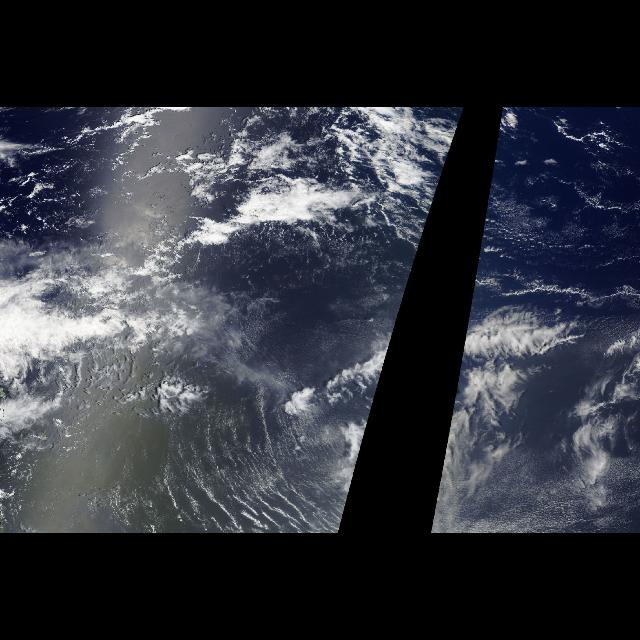Sugar: (58, 386, 380, 532), (430, 425, 630, 533)
